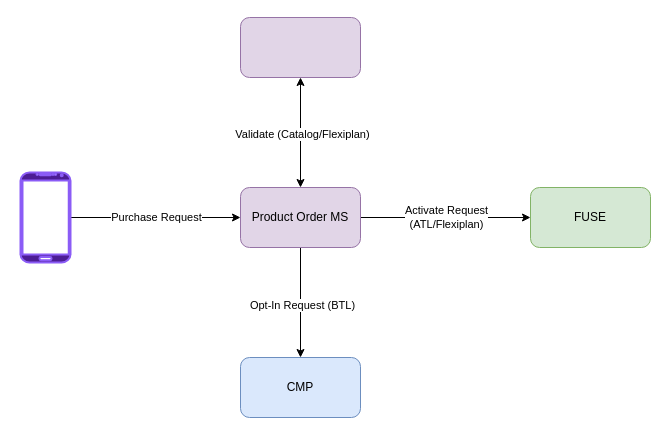
Image size: 668x435. Some labels were removed from this diagram. Each missing label, with the centre of its shape:
Catalog MS: pixel 300 47
MyGP App: pixel 45 217
